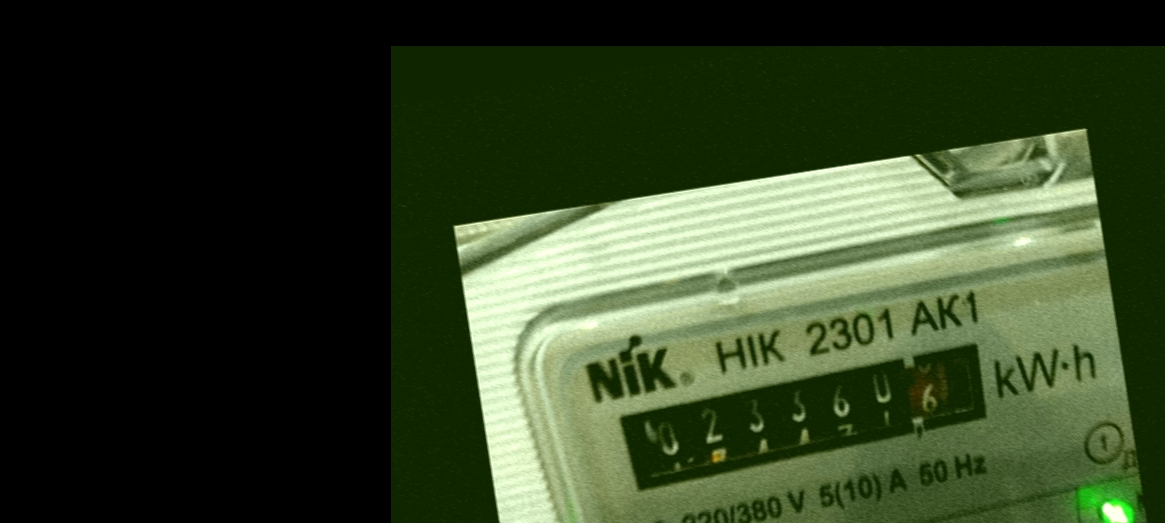0: (653, 415, 684, 460), (868, 367, 896, 407)
2: (695, 402, 727, 446)
3: (741, 394, 768, 436), (783, 385, 810, 426)
6: (824, 378, 856, 423), (917, 379, 943, 418)
screen: (593, 327, 1008, 505)
